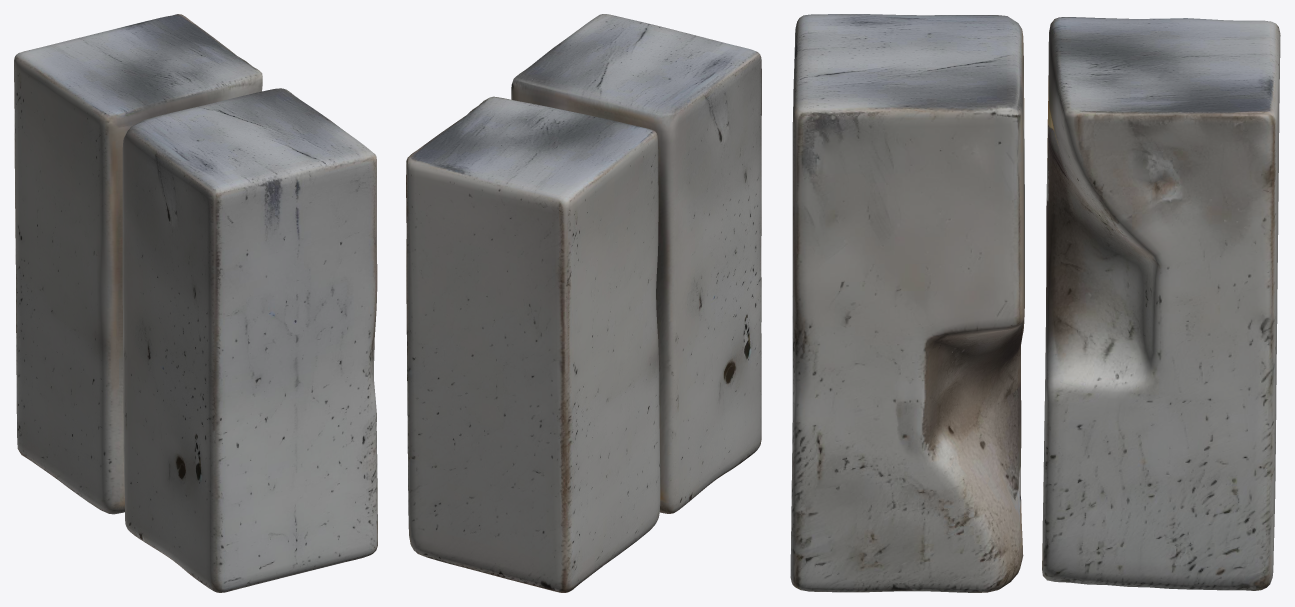
File: salt_pepper_01.glb
3 renders of one model, left to right at view 1: azimuth 30°, elevation 25°; view 2: azimuth 150°, elevation 25°; view 3: azimuth 270°, elevation 25°, orthographic. The views are drawn at different scales.
Visible parts, largest first — view 1: tripo_node_33a8509f-934b-4577-a726-ba37dbca2437; view 2: tripo_node_33a8509f-934b-4577-a726-ba37dbca2437; view 3: tripo_node_33a8509f-934b-4577-a726-ba37dbca2437.
Boxes of the visible parts, bbox=[...] form: tripo_node_33a8509f-934b-4577-a726-ba37dbca2437: bbox=[14, 14, 377, 592]; tripo_node_33a8509f-934b-4577-a726-ba37dbca2437: bbox=[406, 14, 761, 592]; tripo_node_33a8509f-934b-4577-a726-ba37dbca2437: bbox=[790, 14, 1280, 592].
Bounding box in the file's own units: 0.4097 × 0.9478 × 0.8537.
1 material, 1 textured.
